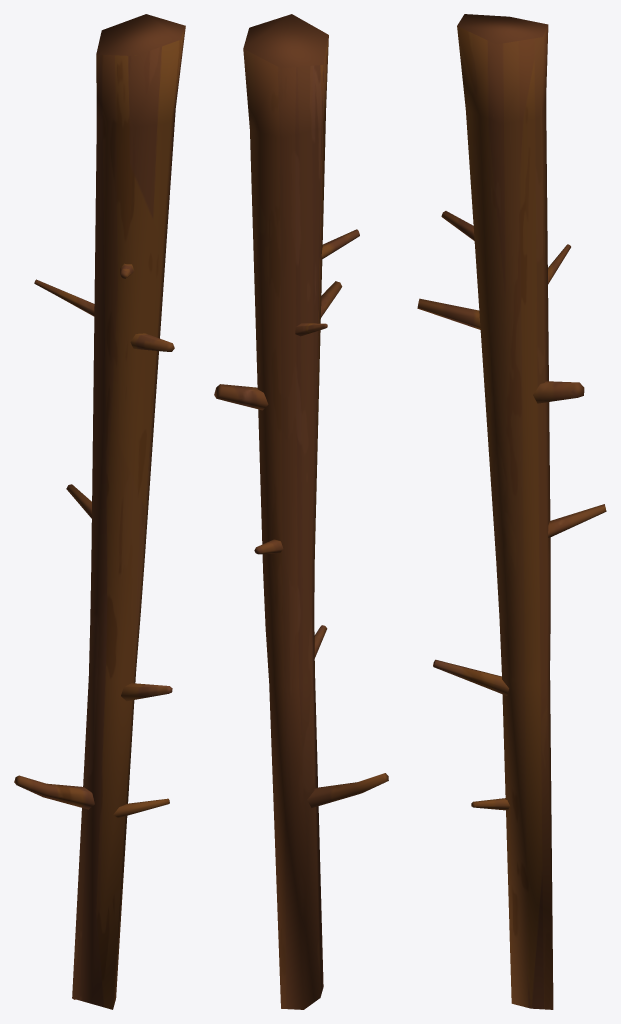
Rendered from pine_dead_03.glb.
3 views of the same model, side by side, from view 1: azimuth 30°, elevation 25°; view 2: azimuth 150°, elevation 25°; view 3: azimuth 270°, elevation 25° (orthographic). The views are drawn at different scales.
Visible parts, largest first — view 1: pine_dead_03; view 2: pine_dead_03; view 3: pine_dead_03.
Boxes of the visible parts, bbox=[...] form: pine_dead_03: bbox=[14, 14, 185, 1009]; pine_dead_03: bbox=[214, 14, 388, 1009]; pine_dead_03: bbox=[417, 14, 606, 1009].
Bounding box in the file's own units: 1.41 × 8.46 × 1.45.
Materials: 1 (1 with a texture image).
